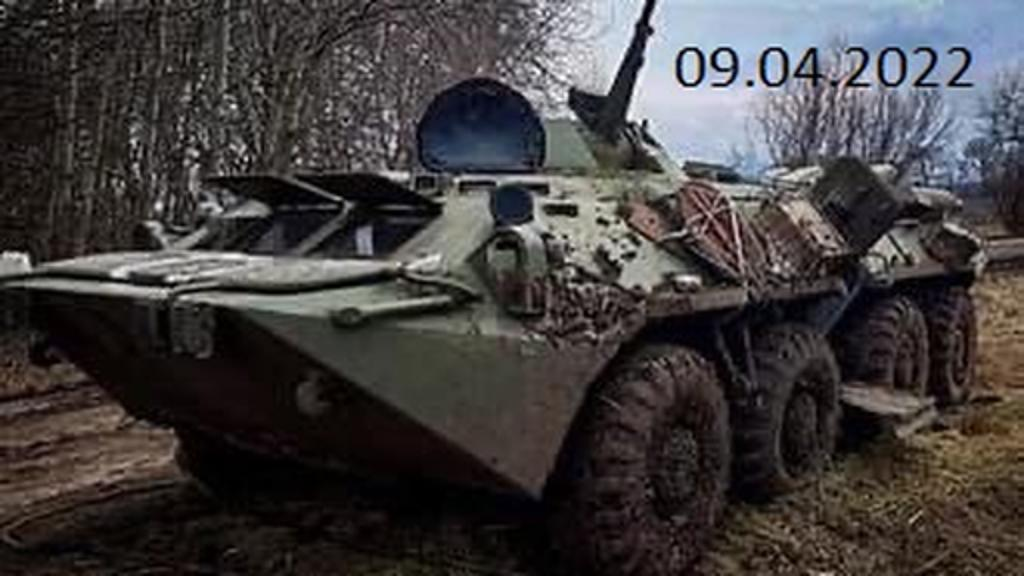APC-IFV: (0, 0, 974, 570)
